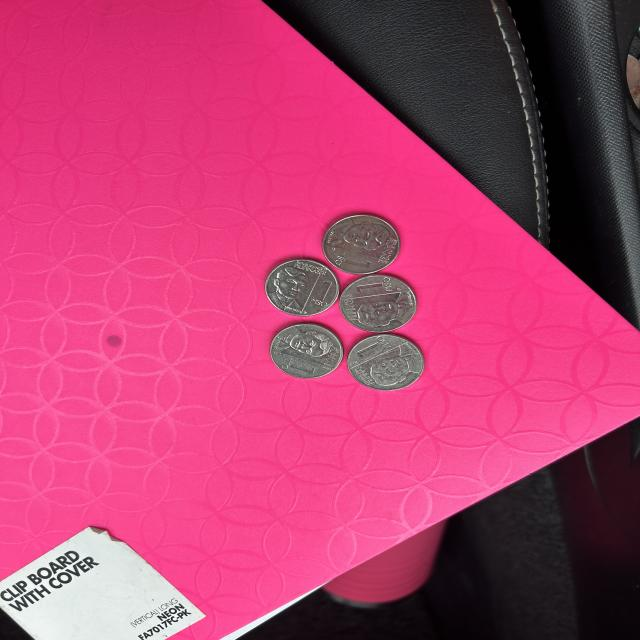1_New_Front: (332, 250, 371, 270), (354, 336, 395, 355), (275, 354, 317, 372), (311, 280, 336, 310), (352, 278, 394, 295)
